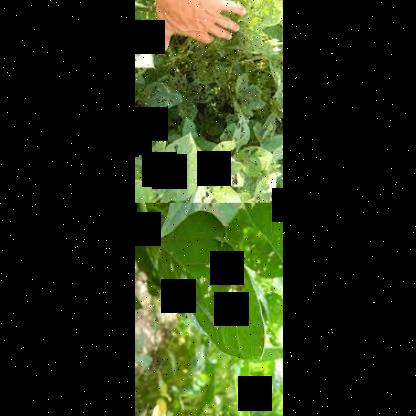agujero: (164, 142, 178, 170), (224, 288, 244, 306), (149, 86, 165, 108), (228, 308, 250, 324), (143, 180, 165, 188), (202, 182, 214, 196), (221, 152, 229, 166), (209, 162, 221, 171), (216, 165, 228, 173), (199, 191, 206, 203), (231, 176, 237, 184)
